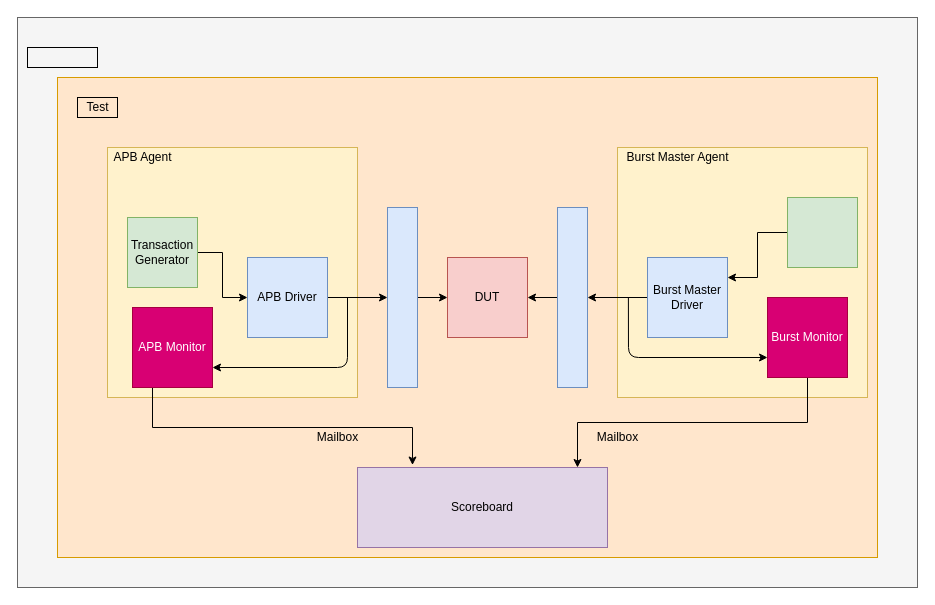
Some shapes in this 935 by 605 pixel diagram are drawn without their labels. Each missing label, with the centre of its shape:
"A P B I n t e r f a c e" goes at (402,297).
"B M I n t e r f a c e" goes at (572,297).
"Bursts Generator" goes at (822,232).
"Test Bench" goes at (62,57).
